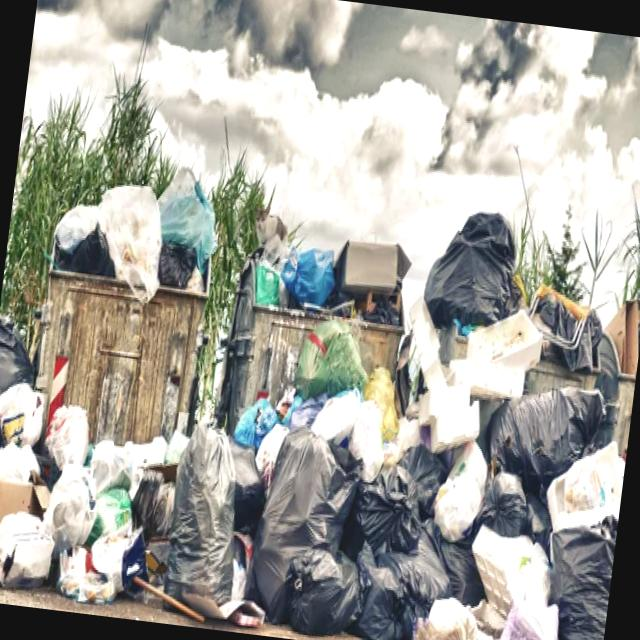garbage: (231, 277, 592, 640), (0, 342, 232, 612)
